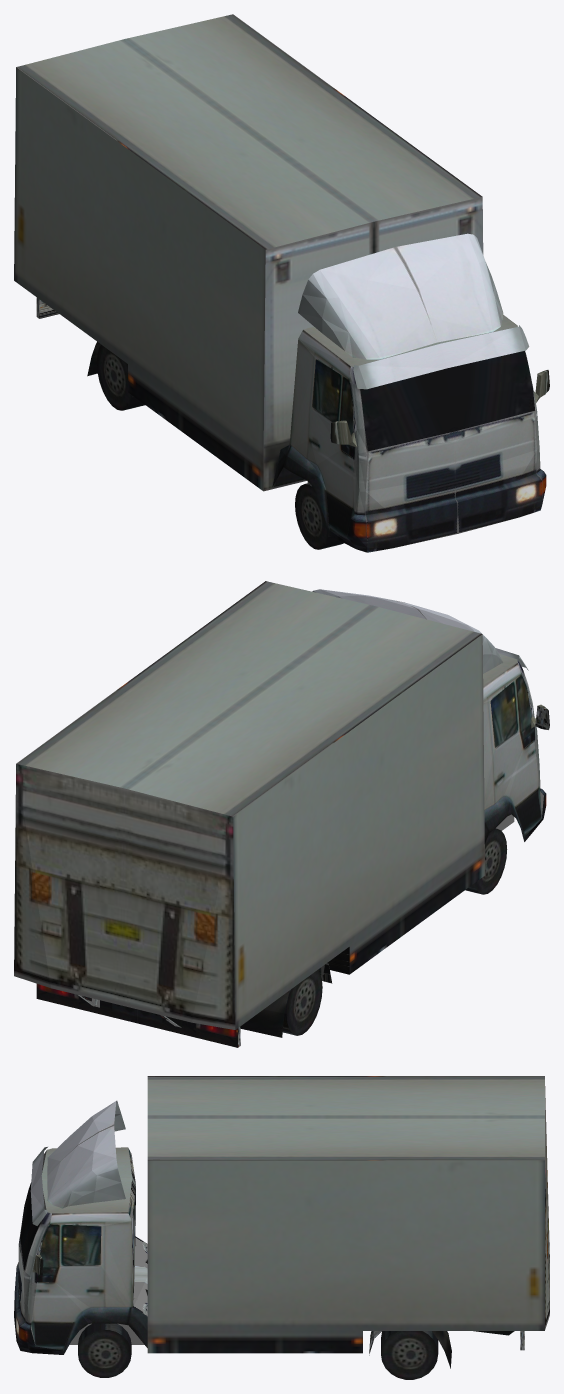
The model's file is truck.fbx.
3 renders of one model, top to bottom at view 1: azimuth 30°, elevation 25°; view 2: azimuth 150°, elevation 25°; view 3: azimuth 270°, elevation 25°, orthographic. The views are drawn at different scales.
Visible parts, largest first — view 1: polySurface27; view 2: polySurface27; view 3: polySurface27.
Part boxes in pixels (<box>): polySurface27: <box>14,14,549,552</box>; polySurface27: <box>14,581,549,1047</box>; polySurface27: <box>14,1076,549,1379</box>.
Size of the model in its own units: 237 by 291 by 626.
1 material, 1 textured.
